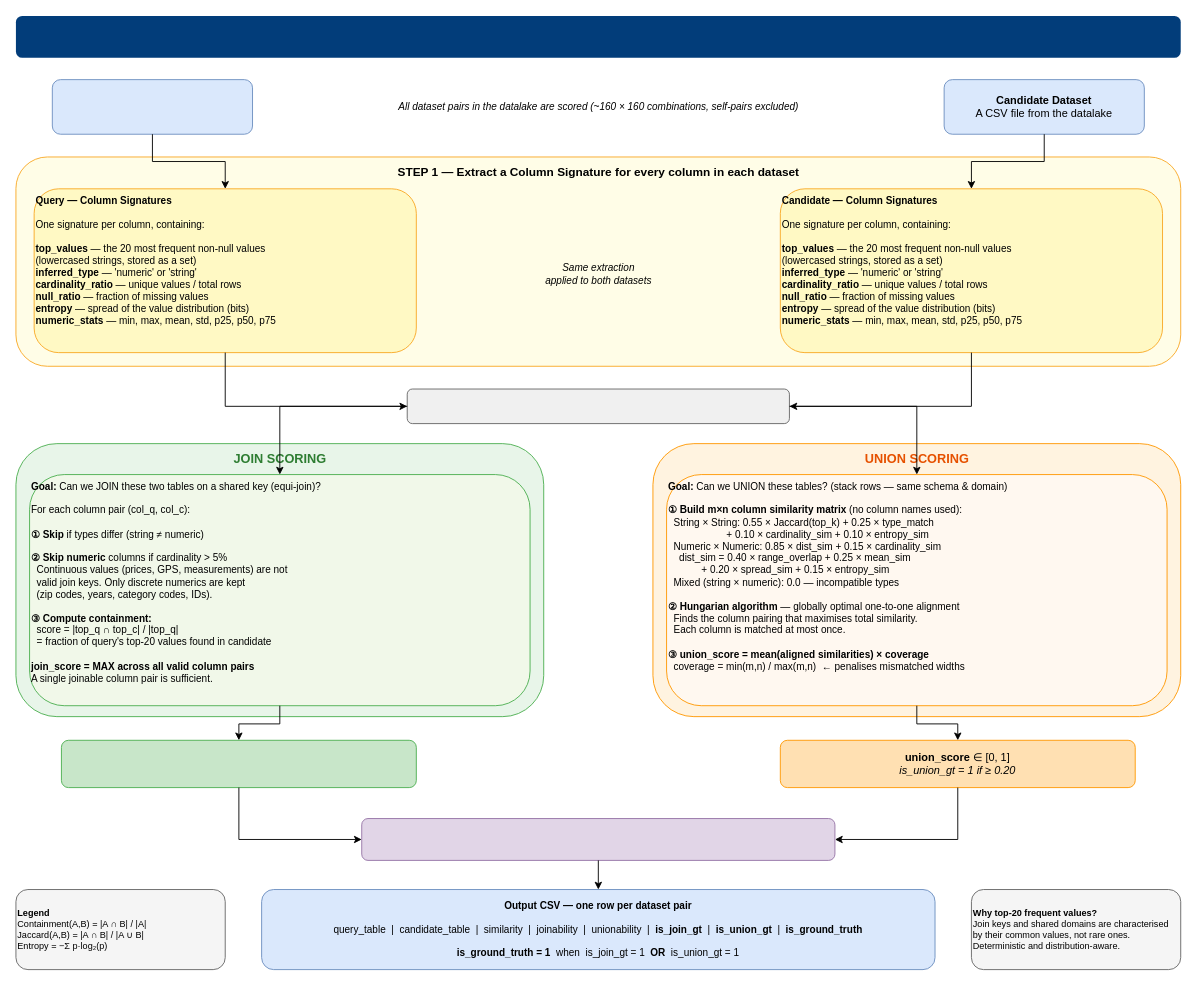
This 1197x986 diagram has some shape labels left out. Each missing label, with the box of its shape:
All column pairs (query_col × candidate_col) are compared: (406, 388, 789, 424)
combined_score = max( join_score , union_score ): (361, 818, 835, 860)
Independent Ground Truth Generation — How Similarity Scores Are Computed: (15, 15, 1180, 57)
join_score ∈ [0, 1] is_join_gt = 1 if ≥ 0.15: (61, 739, 416, 788)
Query Dataset A CSV file from the datalake: (51, 79, 253, 134)
